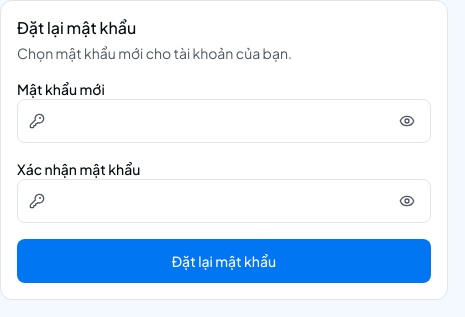
Test case: password recovery › submits the token from the reset link with the confirmed password
Type "NewPassword123" into the password field labelled "Mật khẩu mới" at (224, 121), box x1=17 y1=99 x2=431 y2=143
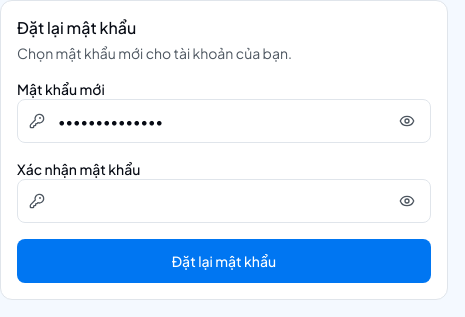
Type "NewPassword123" into the password field labelled "Xác nhận mật khẩu" at (224, 201), box x1=17 y1=179 x2=431 y2=223
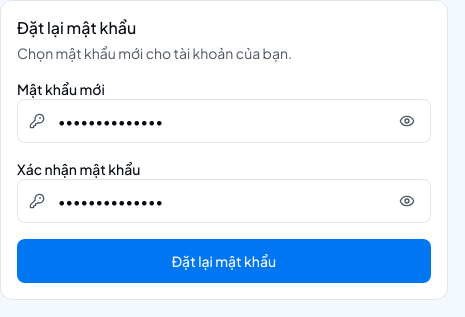
Click the button "Đặt lại mật khẩu" at (224, 261), box x1=17 y1=239 x2=431 y2=283
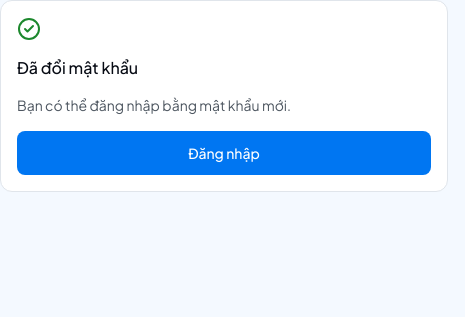
Now the text "Đã đổi mật khẩu" is shown, box x1=17 y1=57 x2=138 y2=78
